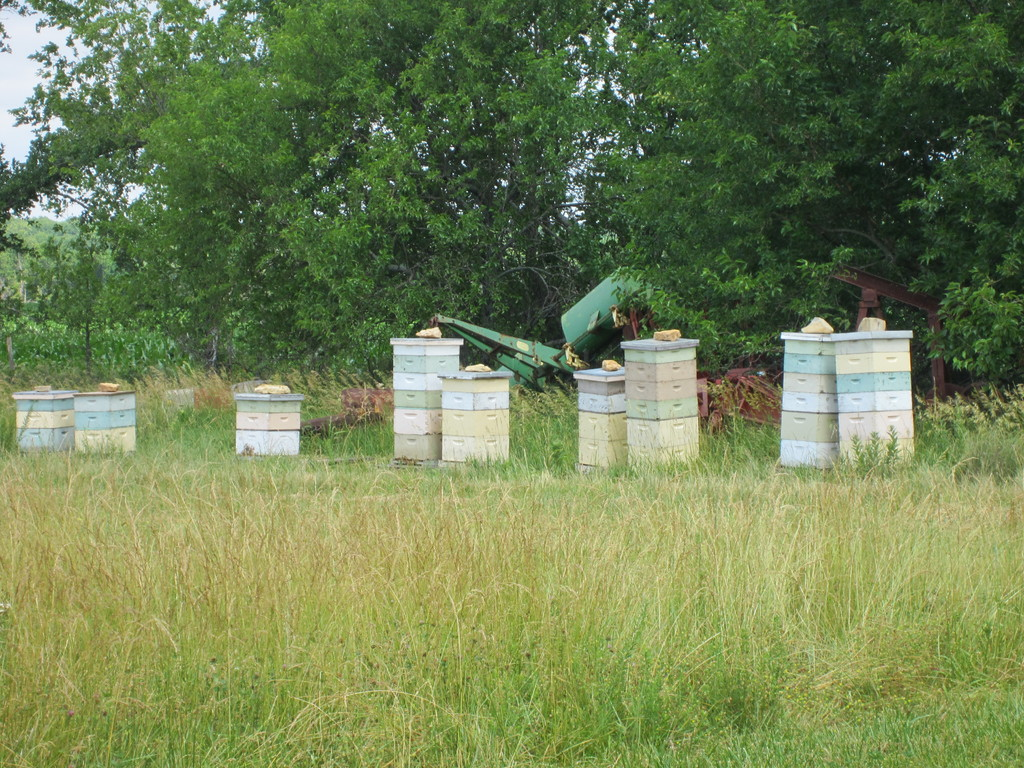Tree: (0, 0, 1024, 376)
